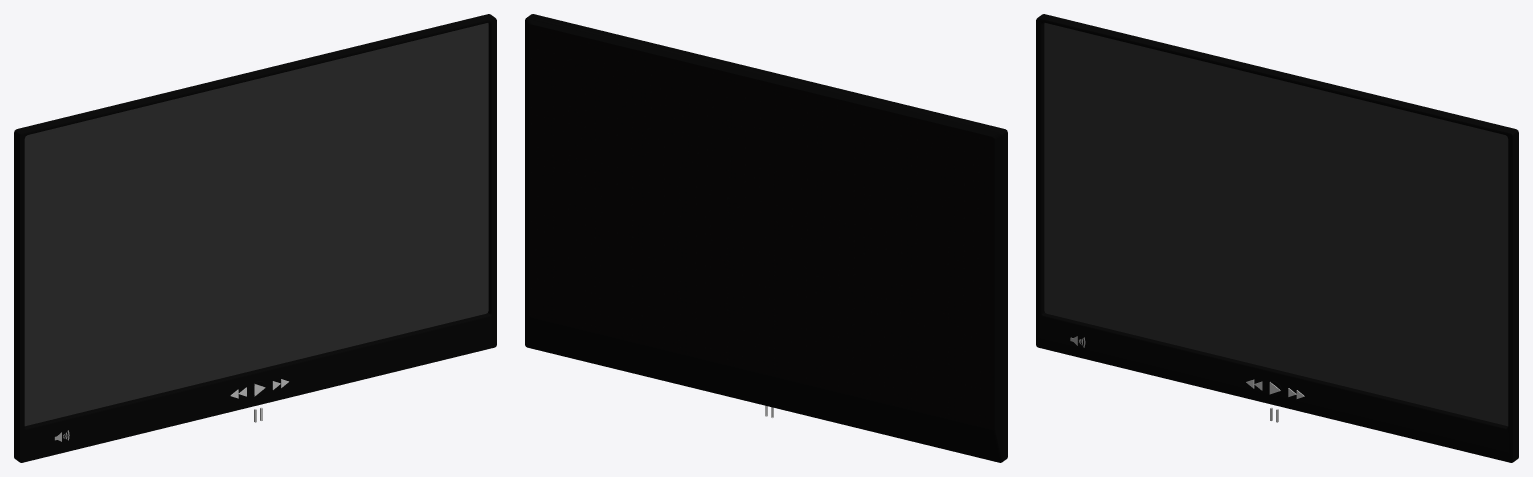
Rendered from Video Player.fbx.
3 renders of one model, left to right at view 1: azimuth 30°, elevation 25°; view 2: azimuth 150°, elevation 25°; view 3: azimuth 330°, elevation 25°, orthographic.
Visible parts, largest first — view 1: Video_player; view 2: Video_player; view 3: Video_player.
Part boxes in pixels (x1=…): Video_player: x1=14, y1=14, x2=496, y2=462; Video_player: x1=525, y1=14, x2=1007, y2=462; Video_player: x1=1036, y1=14, x2=1518, y2=462.
Bounding box in the file's own units: 74.93 × 51.82 × 2.24.
3 materials, 1 textured.
